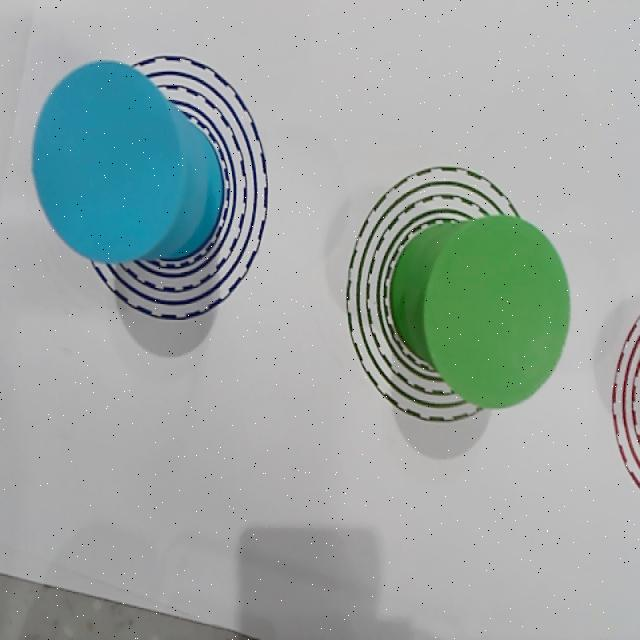b: (32, 59, 182, 264)
g: (424, 214, 570, 410)
